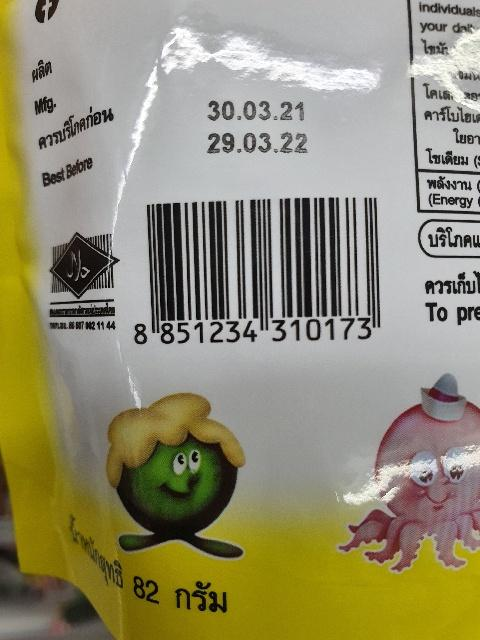Barcode: (126, 189, 394, 350)
